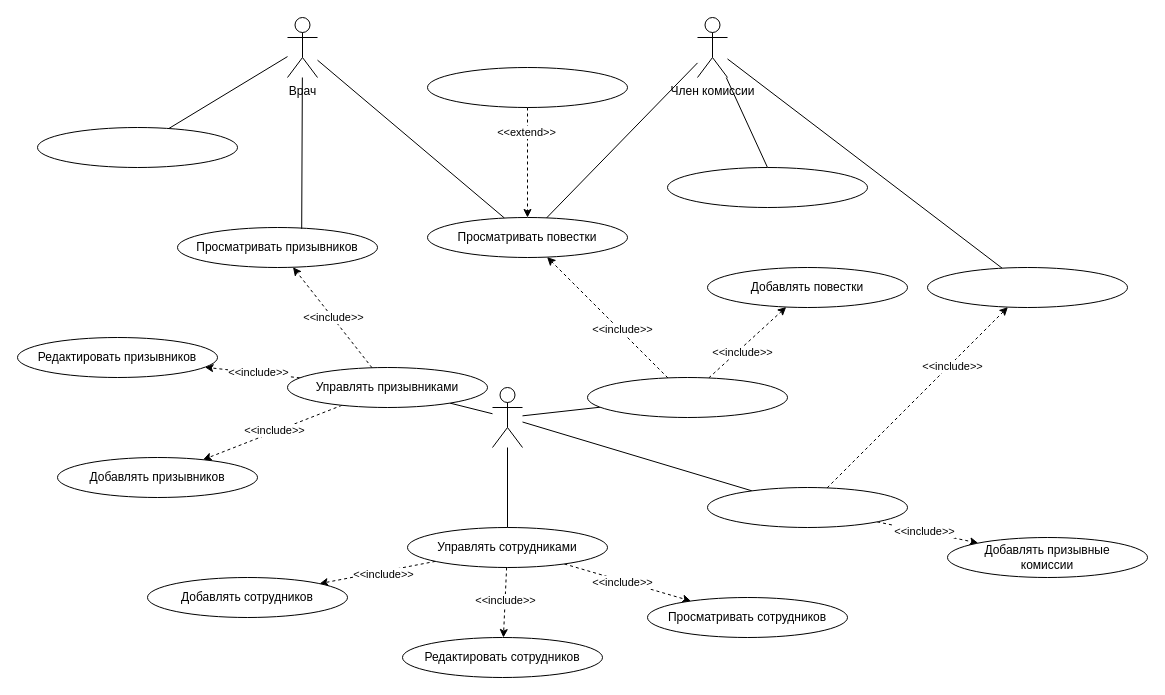
Some shapes in this 1165 by 695 pixel diagram are drawn without their labels. The centre of each missing label's shape, as x and y in pixels:
"Администратор" goes at (x=507, y=417).
"Выносить вердикт" goes at (x=767, y=187).
"Добавлять данные о мед комиссии" goes at (x=137, y=147).
"Просматривать призывные комиссии" goes at (x=1027, y=287).
"Управлять повестками" goes at (x=687, y=397).
"Управлять призывными комиссиями" goes at (x=807, y=507).
"Формировать документ" goes at (x=527, y=87).
